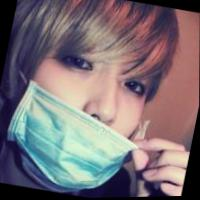WRONG: (1, 12, 178, 194)
